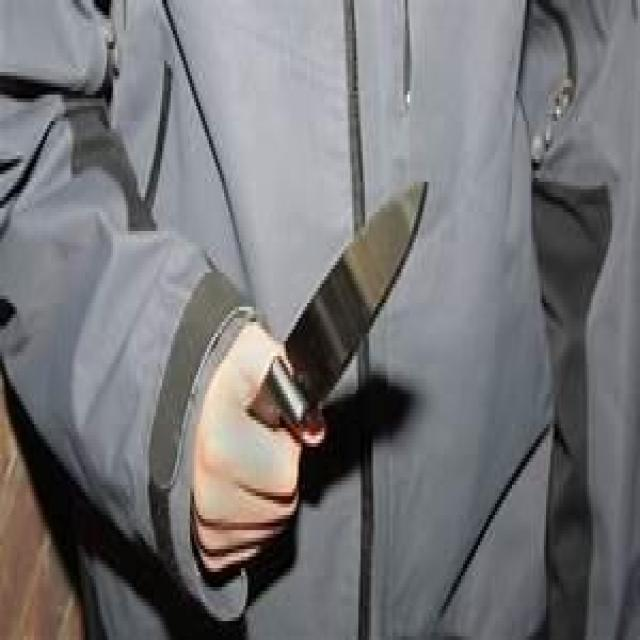Knife: (186, 140, 444, 562)
